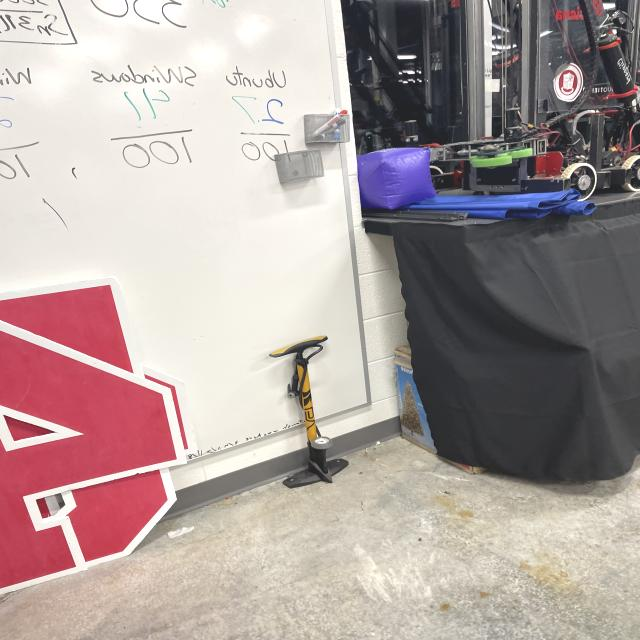frc_cube: (356, 143, 440, 210)
